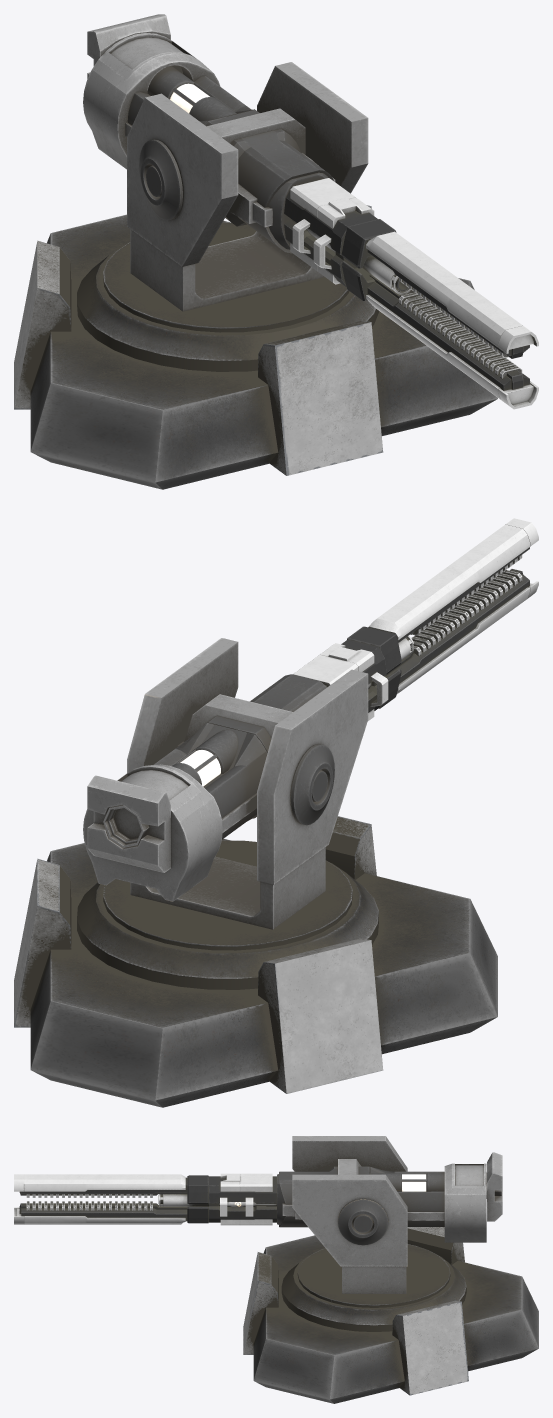
The model's file is rail.fbx.
3 renders of one model, top to bottom at view 1: azimuth 30°, elevation 25°; view 2: azimuth 150°, elevation 25°; view 3: azimuth 270°, elevation 25°, orthographic. The views are drawn at different scales.
Parts seen in each view (by area): view 1: rail, rail.001, rail.005, rail.004, rail.002; view 2: rail, rail.001, rail.005, rail.004, rail.002; view 3: rail, rail.001, rail.005, rail.004, rail.002.
Part boxes in pixels (x1,y1,x2,y2): rail: (14, 205, 497, 489); rail.001: (83, 14, 538, 409); rail.005: (127, 62, 368, 311); rail.004: (103, 222, 349, 332); rail.002: (139, 139, 182, 220); rail: (14, 816, 497, 1107); rail.001: (83, 518, 538, 901); rail.005: (127, 638, 368, 929); rail.004: (103, 840, 352, 950); rail.002: (177, 741, 334, 825); rail: (243, 1227, 538, 1403); rail.001: (14, 1152, 502, 1242); rail.005: (292, 1136, 407, 1293); rail.004: (297, 1244, 450, 1307); rail.002: (338, 1199, 388, 1245).
Size of the model in its own units: 967 by 594 by 1540.
